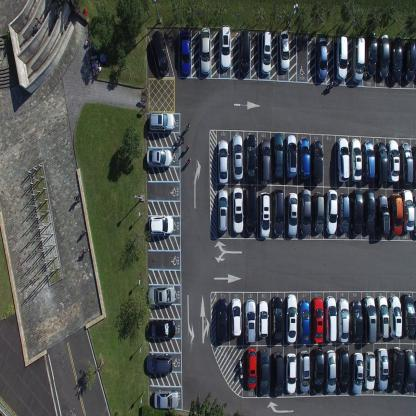car: (152, 29, 169, 76), (376, 32, 391, 80), (389, 346, 405, 391), (362, 295, 376, 344), (146, 283, 175, 306), (388, 191, 403, 235), (364, 30, 378, 77), (351, 35, 365, 82), (145, 352, 173, 375), (374, 141, 388, 186), (402, 37, 416, 81), (334, 35, 348, 79), (336, 137, 350, 181), (401, 293, 415, 337), (148, 318, 176, 340), (350, 351, 364, 395), (312, 346, 325, 393), (245, 184, 257, 234), (146, 148, 173, 170), (361, 140, 375, 182), (300, 188, 312, 237), (285, 294, 297, 343), (401, 188, 414, 233), (219, 22, 231, 70), (231, 132, 243, 180), (326, 188, 338, 236), (272, 350, 284, 398), (149, 214, 174, 237), (376, 195, 390, 236), (298, 135, 311, 179), (285, 132, 298, 176), (315, 36, 328, 80), (400, 142, 413, 186), (389, 294, 402, 338), (376, 294, 389, 338), (153, 388, 179, 410), (259, 137, 271, 184), (232, 186, 244, 233), (390, 37, 402, 84), (351, 188, 363, 235), (364, 188, 376, 235), (349, 138, 362, 181), (217, 138, 229, 184), (258, 192, 270, 238), (286, 192, 298, 238), (325, 296, 337, 342), (312, 297, 324, 343), (244, 299, 256, 345), (337, 346, 349, 392), (179, 28, 190, 78), (245, 132, 256, 182), (149, 112, 175, 133), (376, 348, 389, 390), (387, 138, 399, 183), (337, 298, 349, 343), (403, 348, 415, 393), (272, 131, 283, 180), (200, 26, 211, 75), (271, 295, 282, 344), (258, 347, 269, 396), (363, 350, 376, 391), (260, 30, 272, 74), (273, 187, 284, 235), (298, 349, 310, 393), (311, 138, 323, 181), (312, 190, 324, 233), (338, 191, 350, 234), (350, 299, 362, 342), (216, 298, 227, 344), (285, 353, 297, 395), (240, 28, 250, 76), (230, 297, 242, 337), (246, 348, 257, 390), (279, 30, 290, 71), (218, 188, 228, 233), (299, 300, 309, 344), (326, 349, 336, 393), (258, 299, 268, 339), (412, 145, 416, 185), (413, 195, 416, 236)
